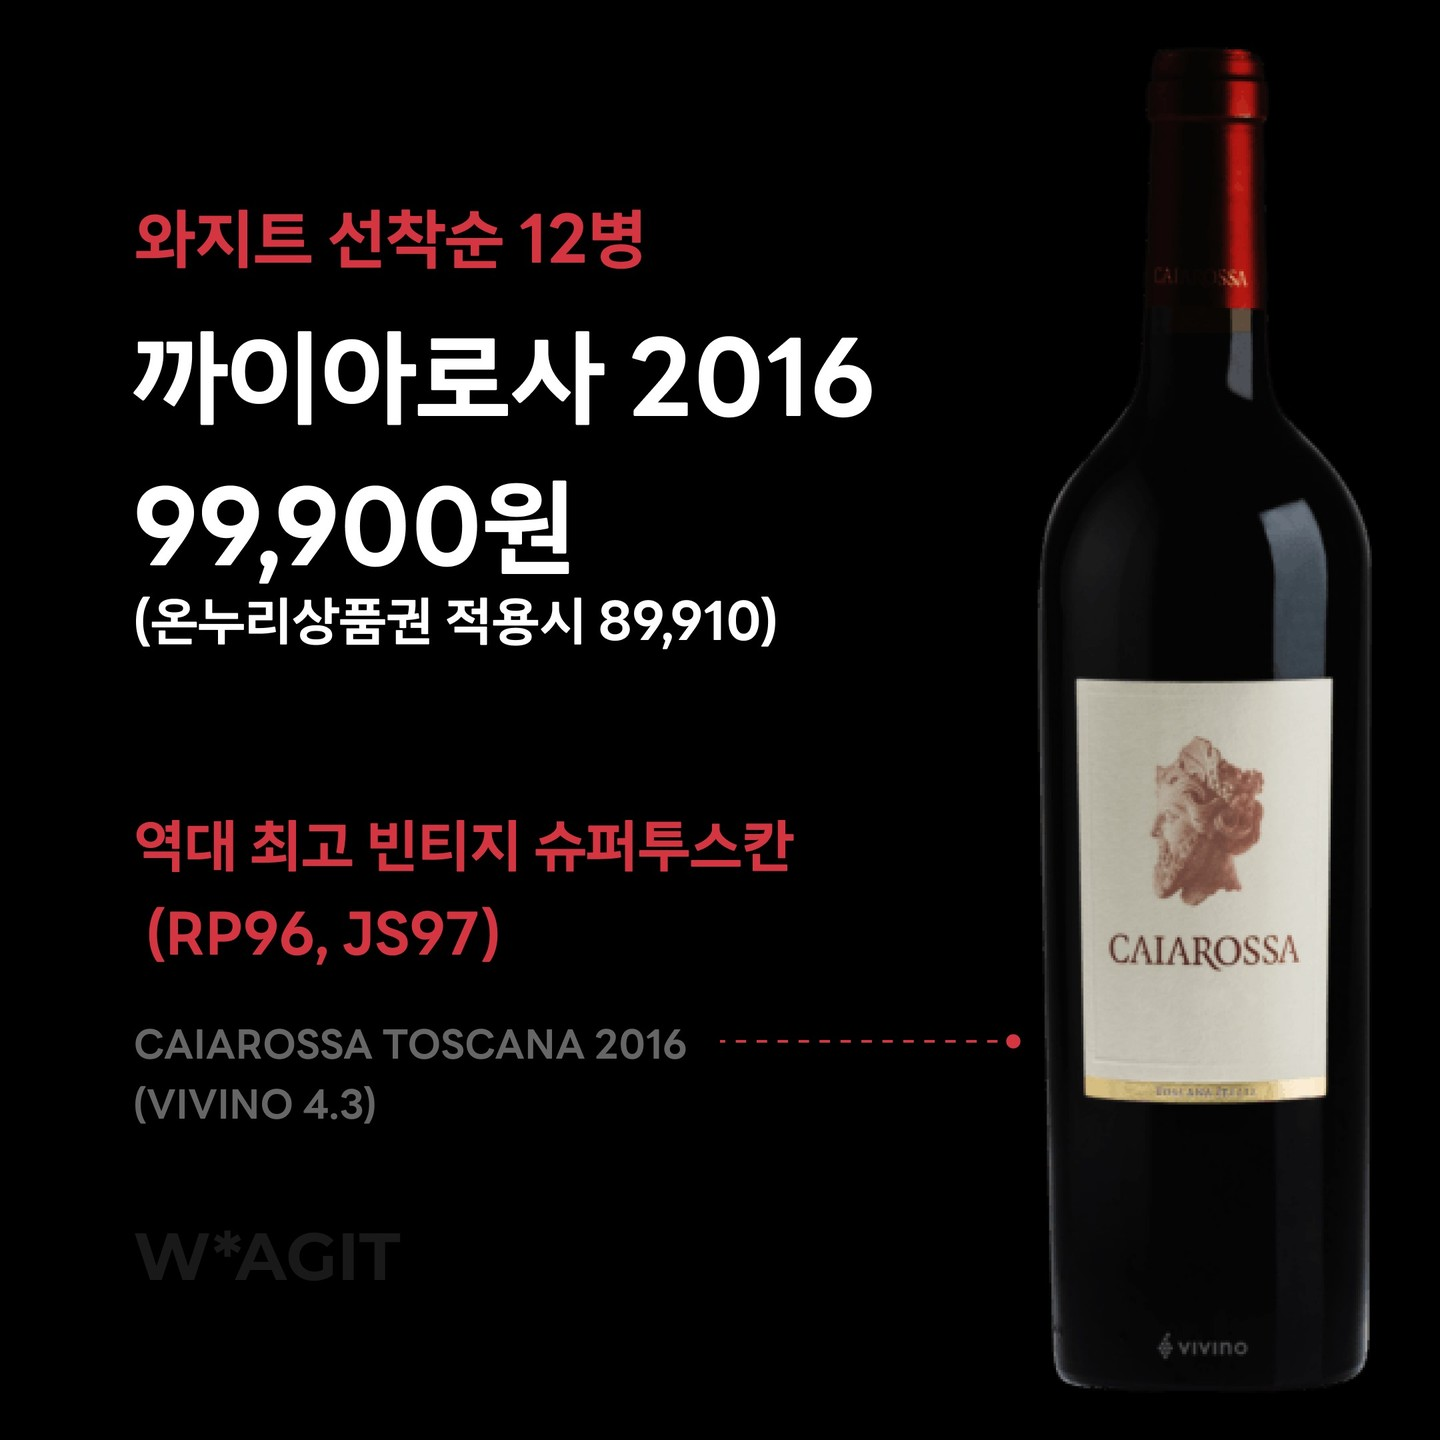alcohol: (1023, 21, 1385, 1404)
